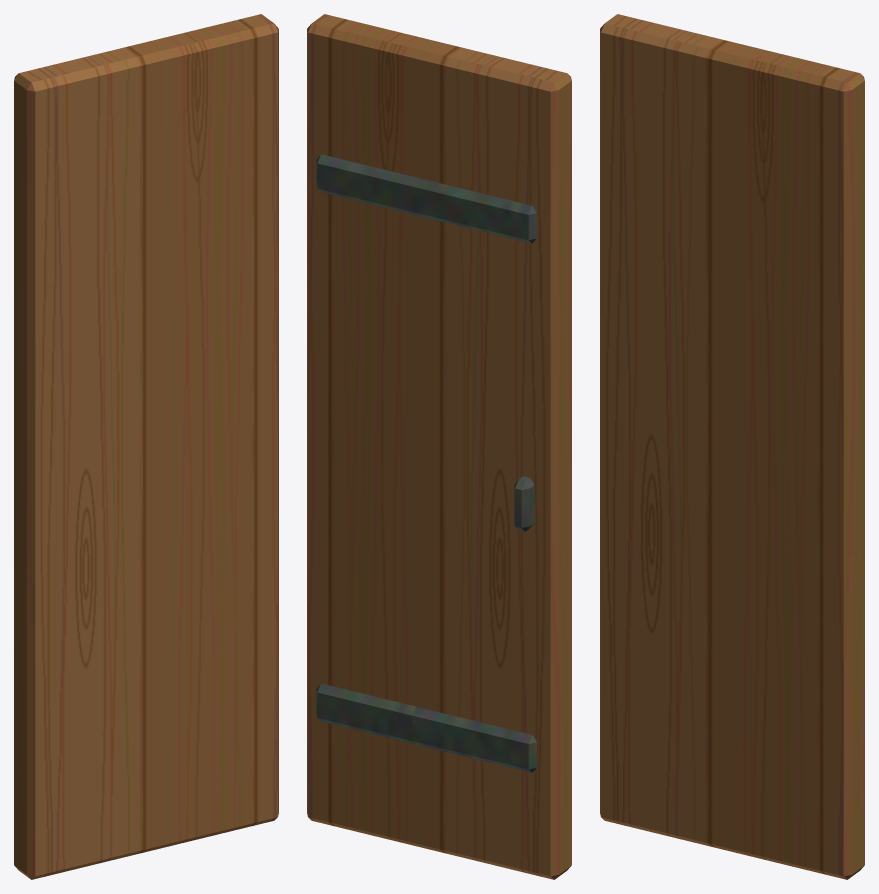
File: SM_HH_V2_DoorLeaf.fbx
3 views of the same model, side by side, from view 1: azimuth 30°, elevation 25°; view 2: azimuth 150°, elevation 25°; view 3: azimuth 330°, elevation 25° (orthographic).
Parts seen in each view (by area): view 1: HH_V2_DoorLeaf; view 2: HH_V2_DoorLeaf; view 3: HH_V2_DoorLeaf.
Part boxes in pixels (x1,y1,x2,y2): HH_V2_DoorLeaf: [14, 14, 278, 879]; HH_V2_DoorLeaf: [307, 14, 571, 879]; HH_V2_DoorLeaf: [600, 14, 864, 879].
Bounding box in the file's own units: 0.145 × 0.68 × 2.06.
